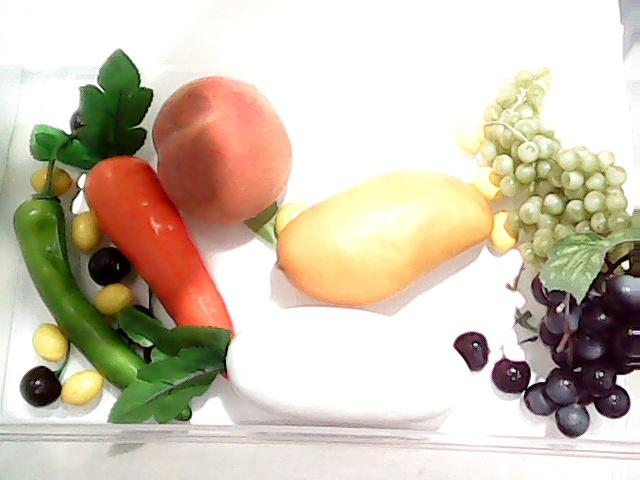carrot: (30, 48, 234, 380)
grape: (480, 58, 634, 274), (520, 230, 640, 439)
mango: (273, 164, 493, 312)
peach: (152, 73, 296, 230)
pepper: (11, 166, 192, 418)
radish: (115, 306, 469, 434)
